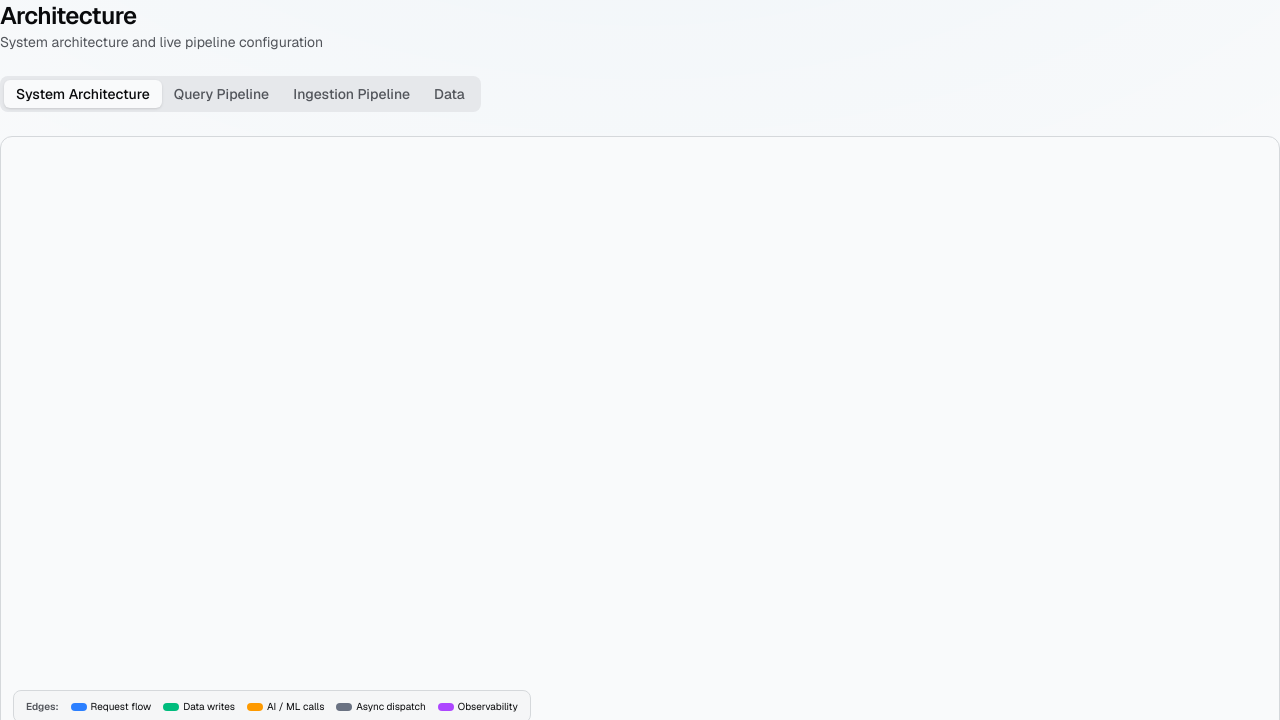
it: ArchitecturePage › renders query pipeline nodes
Expected: the heading "Architecture" is shown, [0, 0, 136, 31]
Click the tab "Query Pipeline".
click(222, 94)  # box [162, 80, 281, 108]
(page scrolled)
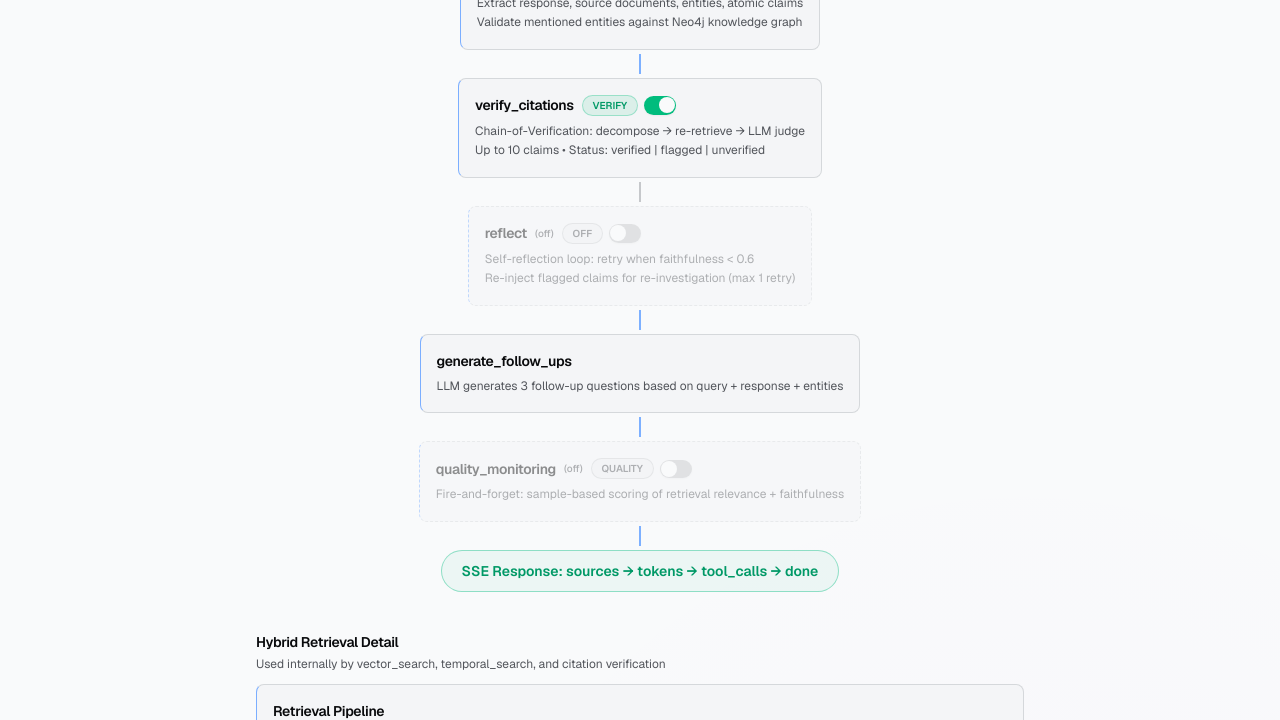
Expected: the heading "verify_citations" is shown, [475, 95, 574, 115]
Expected: the heading "generate_follow_ups" is shown, [436, 351, 572, 371]
